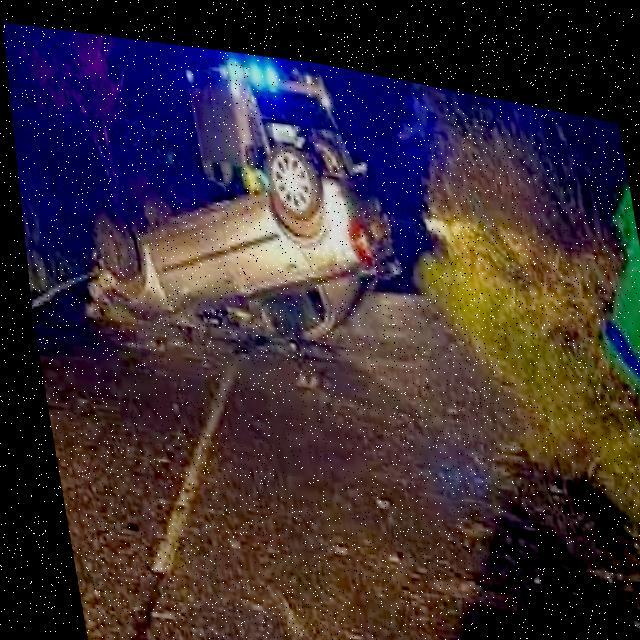Car Accident Detector - v4 Generation1 Exported: (53, 90, 412, 378)
